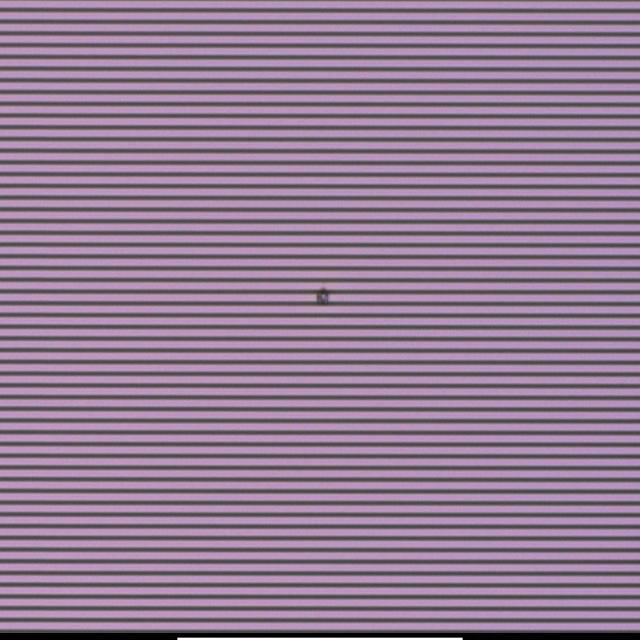03_intrusion: (312, 289, 338, 308)
